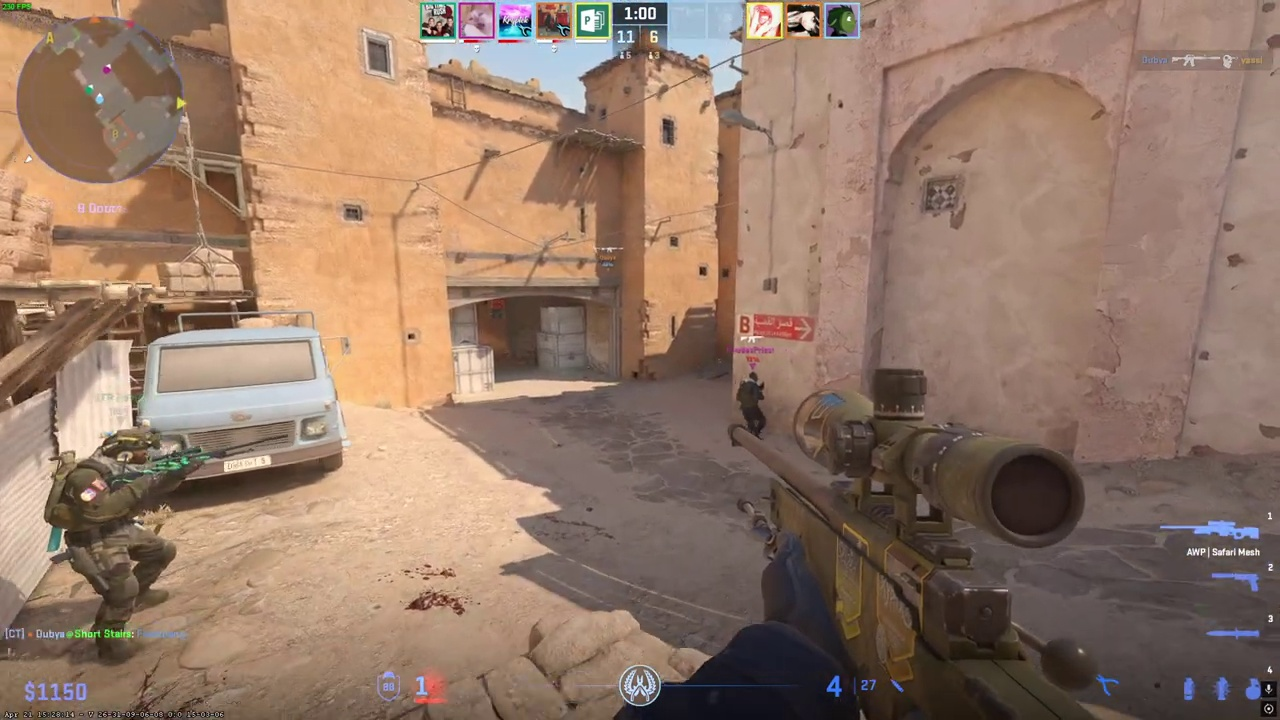CT: (50, 428, 188, 662), (737, 372, 767, 439)
